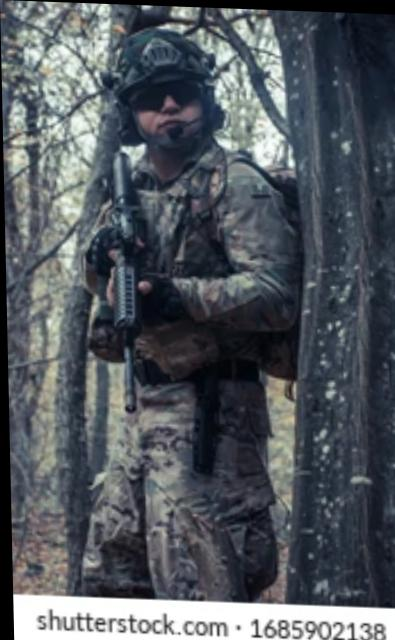other: (76, 29, 310, 604)
